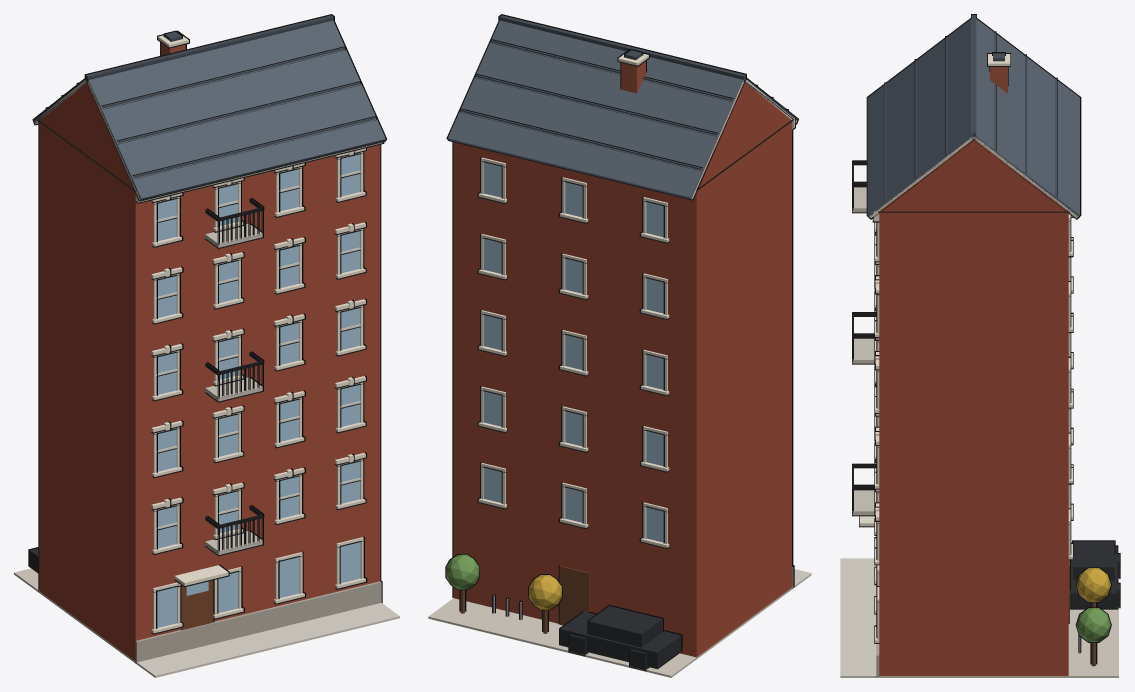
The model's file is Blok_duz_6k_2.fbx.
3 renders of one model, left to right at view 1: azimuth 30°, elevation 25°; view 2: azimuth 150°, elevation 25°; view 3: azimuth 270°, elevation 25°, orthographic.
Visible parts, largest first — view 1: Blok_duz_6k_2; view 2: Blok_duz_6k_2; view 3: Blok_duz_6k_2.
Part boxes in pixels (x1,y1,x2,y2): Blok_duz_6k_2: [14, 14, 399, 677]; Blok_duz_6k_2: [428, 14, 811, 677]; Blok_duz_6k_2: [840, 14, 1120, 677].
Size of the model in its own units: 10.14 by 21.89 by 10.07.
